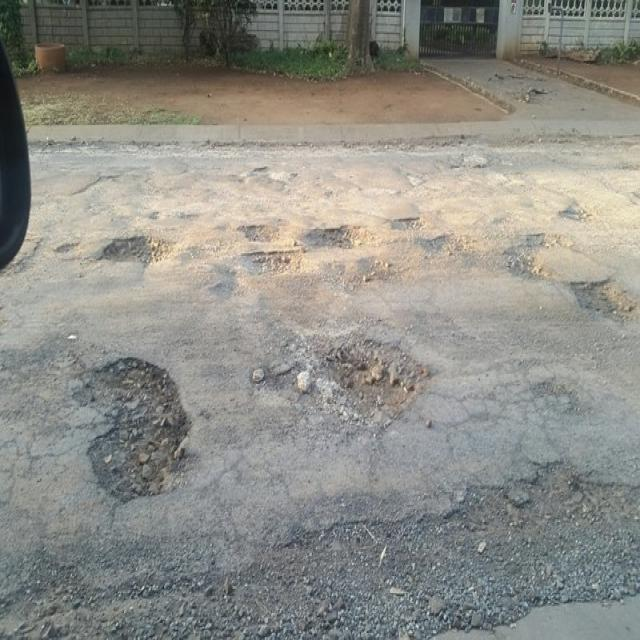Pothole: (70, 353, 198, 510), (299, 333, 432, 425), (496, 228, 564, 284), (571, 273, 640, 327), (100, 234, 174, 265), (303, 222, 368, 252), (244, 246, 302, 275), (417, 229, 464, 258), (238, 222, 280, 246), (556, 203, 591, 225), (385, 215, 427, 231), (55, 238, 80, 255)
